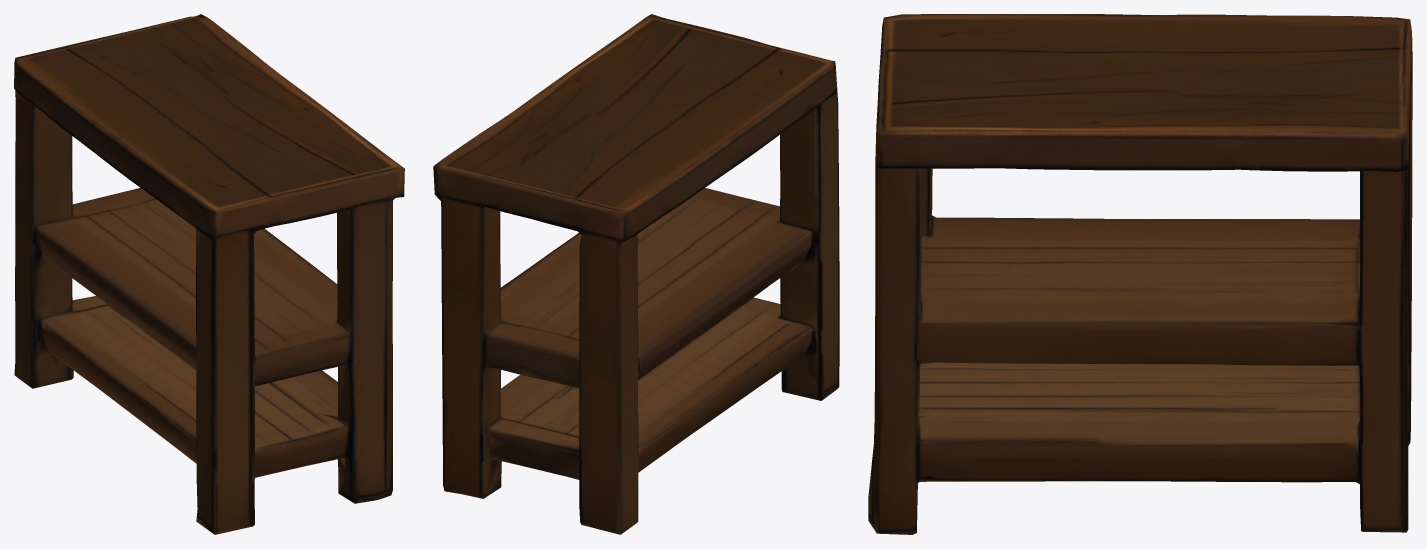
The model's file is Etanteria1.fbx.
3 renders of one model, left to right at view 1: azimuth 30°, elevation 25°; view 2: azimuth 150°, elevation 25°; view 3: azimuth 270°, elevation 25°, orthographic. The views are drawn at different scales.
Parts seen in each view (by area): view 1: tripo_node_f1171c2a; view 2: tripo_node_f1171c2a; view 3: tripo_node_f1171c2a.
Boxes of the visible parts, x1,y1,x2,y2 form: tripo_node_f1171c2a: (14,14,404,534); tripo_node_f1171c2a: (433,14,839,534); tripo_node_f1171c2a: (868,14,1412,534).
Size of the model in its own units: 15.56 by 24.39 by 29.1.
